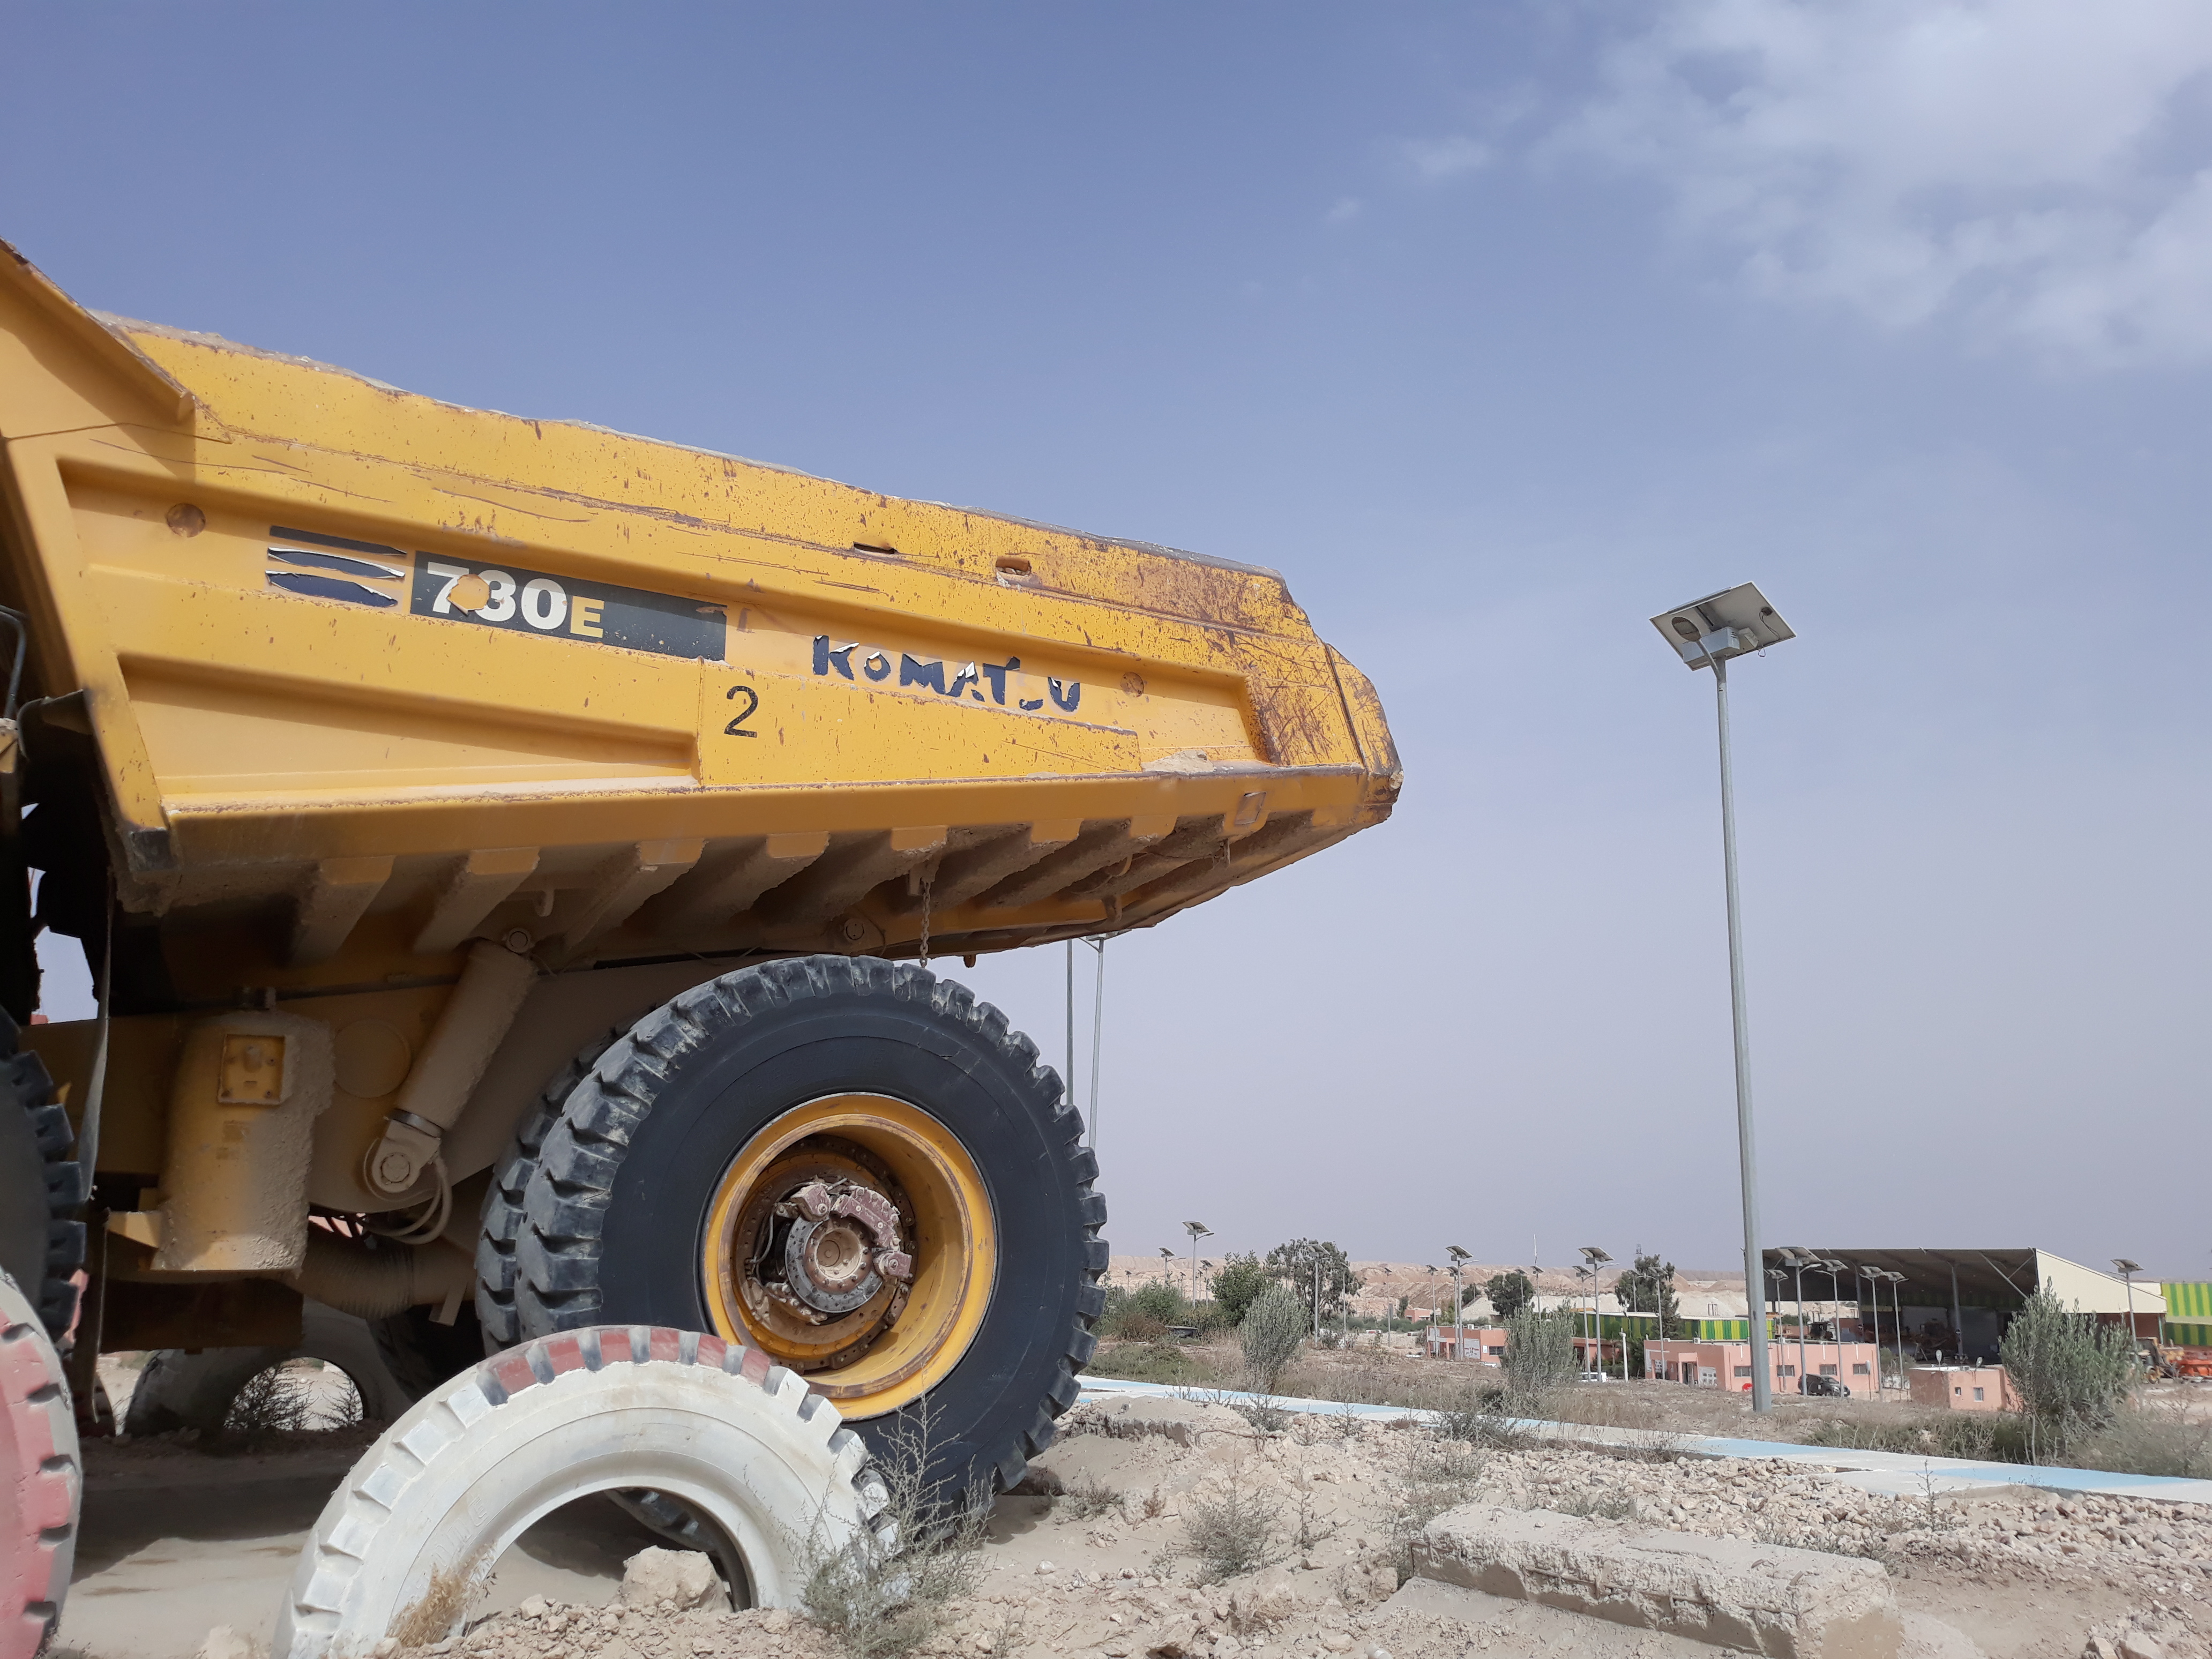camion: (0, 240, 1413, 1560)
